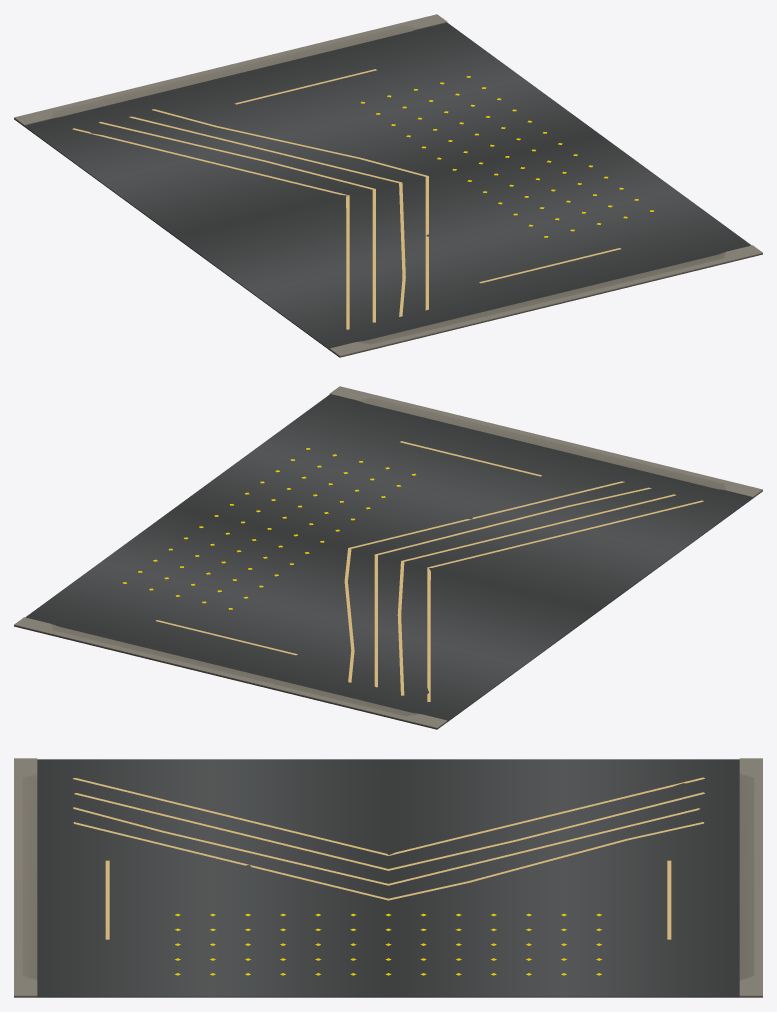
The model's file is tp_runway_01a.glb.
3 renders of one model, top to bottom at view 1: azimuth 30°, elevation 25°; view 2: azimuth 150°, elevation 25°; view 3: azimuth 270°, elevation 25°, orthographic. The views are drawn at different scales.
Visible parts, largest first — view 1: TP_Runway_01A; view 2: TP_Runway_01A; view 3: TP_Runway_01A.
Boxes of the visible parts, x1,y1,x2,y2 form: TP_Runway_01A: [14, 14, 762, 357]; TP_Runway_01A: [14, 386, 762, 729]; TP_Runway_01A: [14, 758, 762, 997].
Bounding box in the file's own units: 48 × 0.2 × 64.
Materials: 1 (1 with a texture image).
